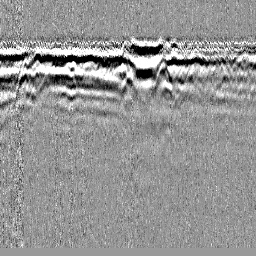cavity: (120, 72, 137, 93)
